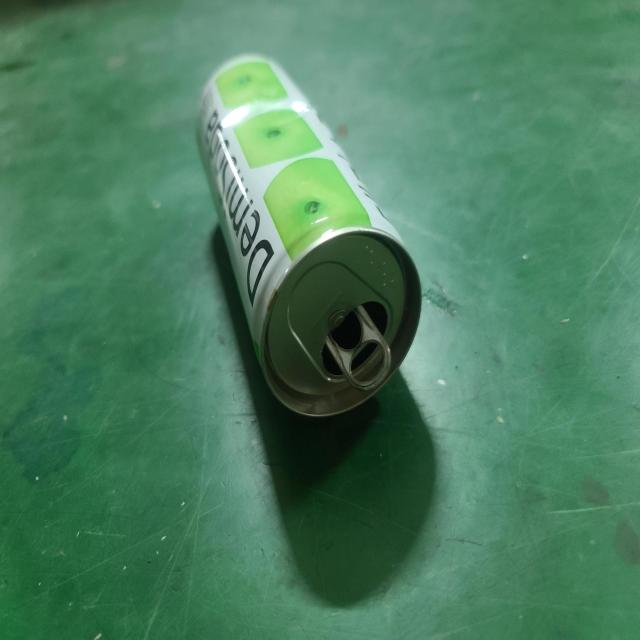can: (197, 54, 422, 416)
